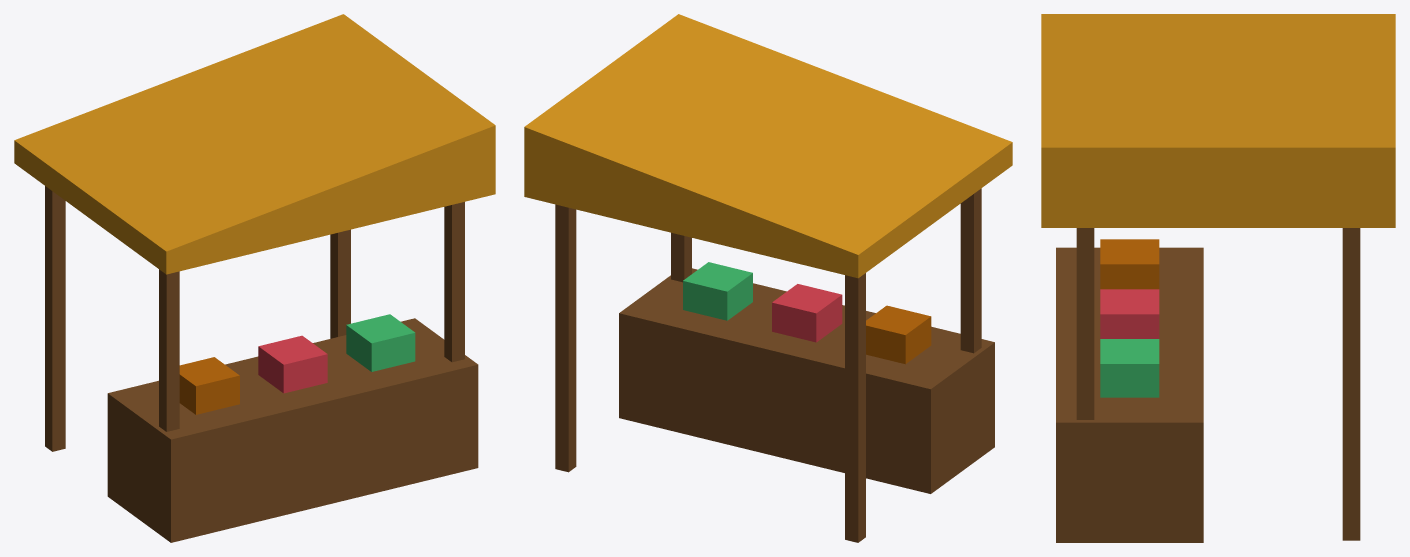
File: market_stall_amber.glb
The picture shows the model from 3 angles, left to right: view 1: azimuth 30°, elevation 25°; view 2: azimuth 150°, elevation 25°; view 3: azimuth 270°, elevation 25°; orthographic projection. The views are drawn at different scales.
Visible parts, largest first — view 1: model; view 2: model; view 3: model.
Boxes of the visible parts, <box> form: model: <box>14,14,495,542</box>; model: <box>524,14,1012,542</box>; model: <box>1041,14,1395,542</box>.
Size of the model in its own units: 3 by 3 by 2.4.
